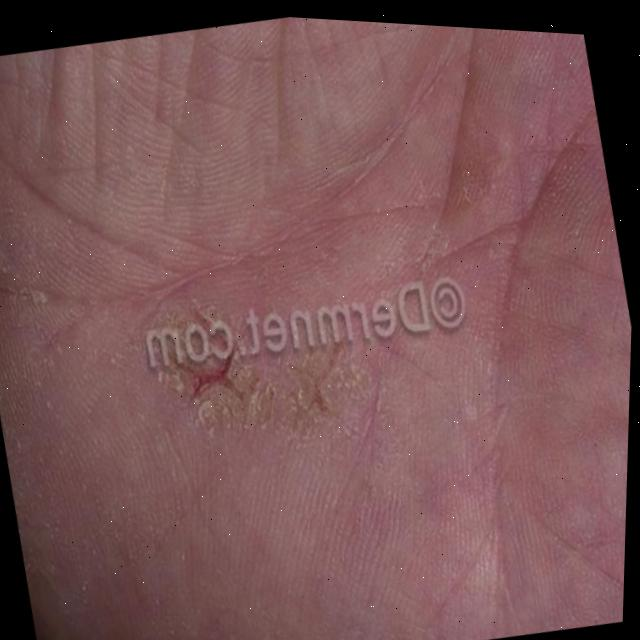Eczema: (163, 271, 375, 445)
